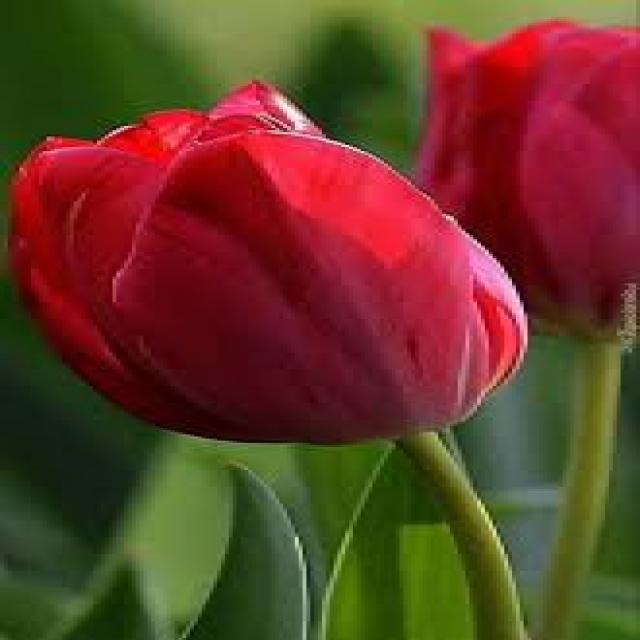tulip: (9, 43, 540, 480)
